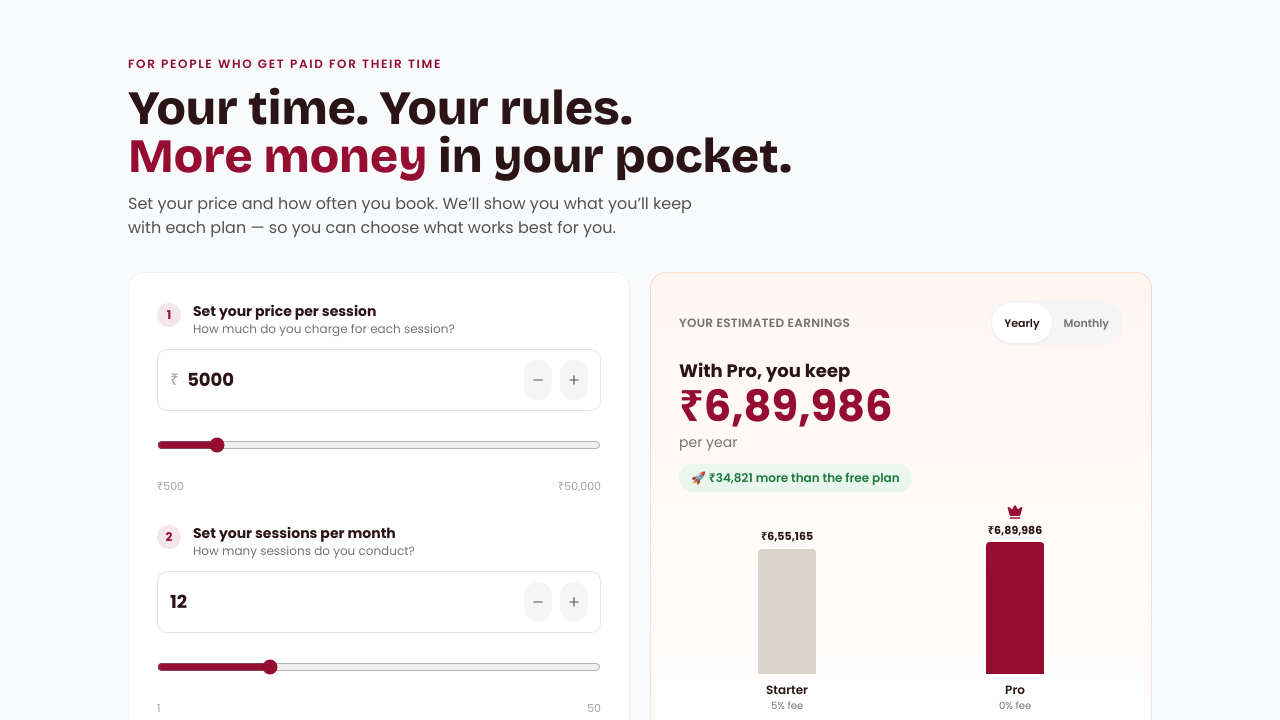
Test case: EarningsCalculator › recommends the free plan at very low volume
Replace the text in the number field named "Set your price per session" with "600". click: x=352, y=380
box: left=187, top=358, right=516, bottom=402
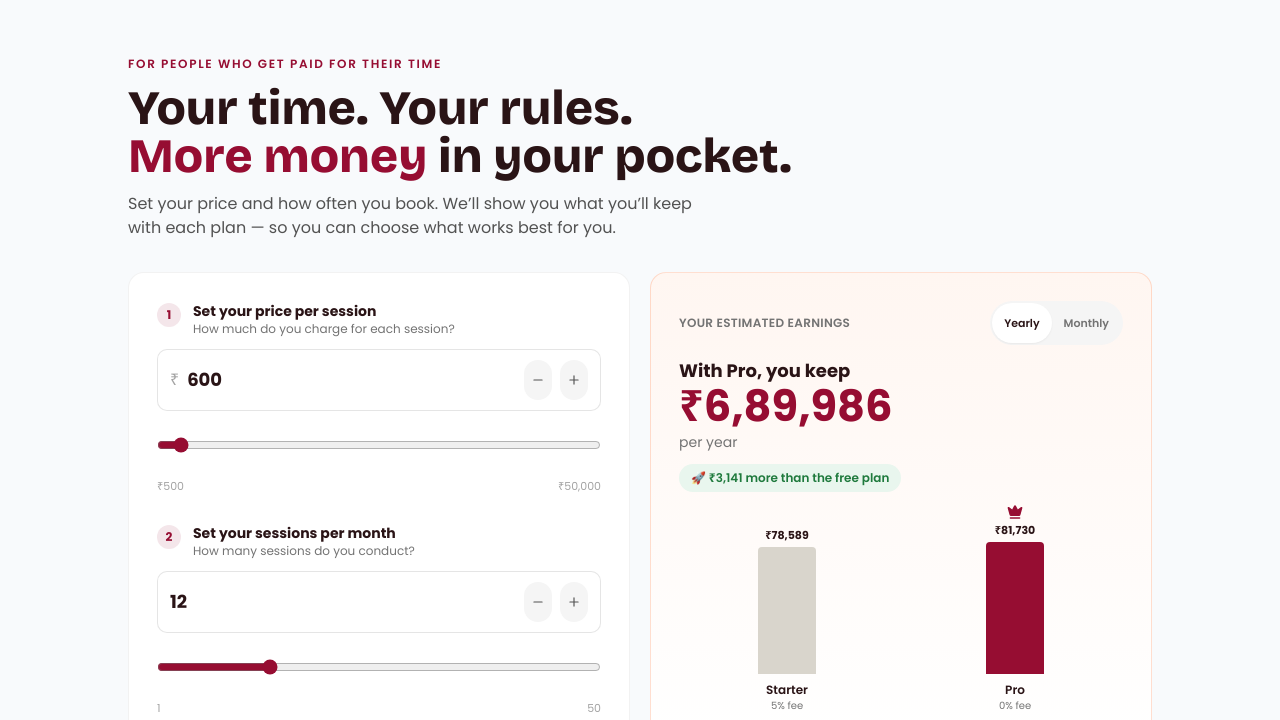
Replace the text in the number field named "Set your sessions per month" with "1". click: x=343, y=602
box: left=170, top=580, right=516, bottom=624
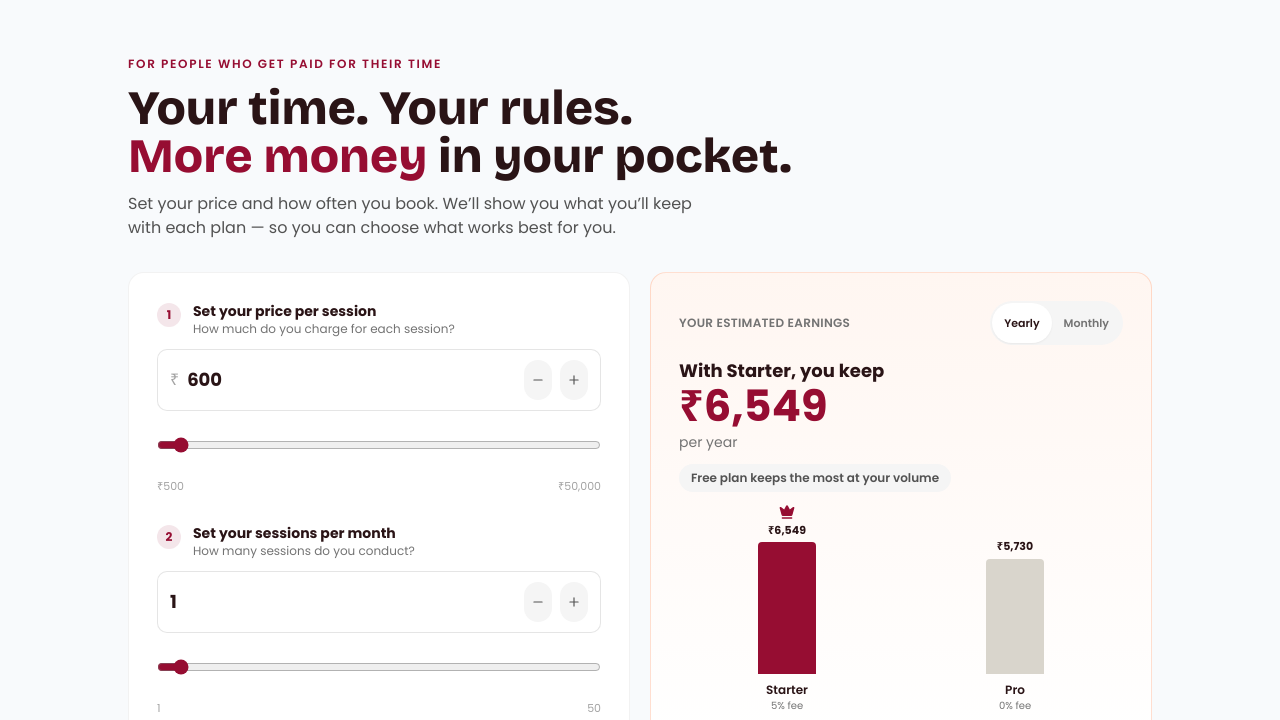
Now the text "Free plan keeps the most at your volume" is shown, box left=679, top=464, right=951, bottom=492
Now the text "With Starter, you keep" is shown, box left=679, top=358, right=884, bottom=383
